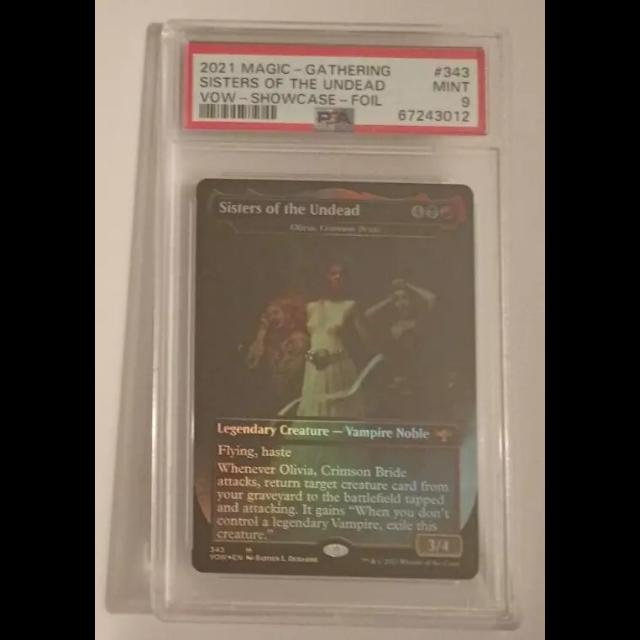card: (190, 177, 479, 582)
psa_label: (185, 40, 486, 135)
psa_slab: (152, 18, 524, 632)
